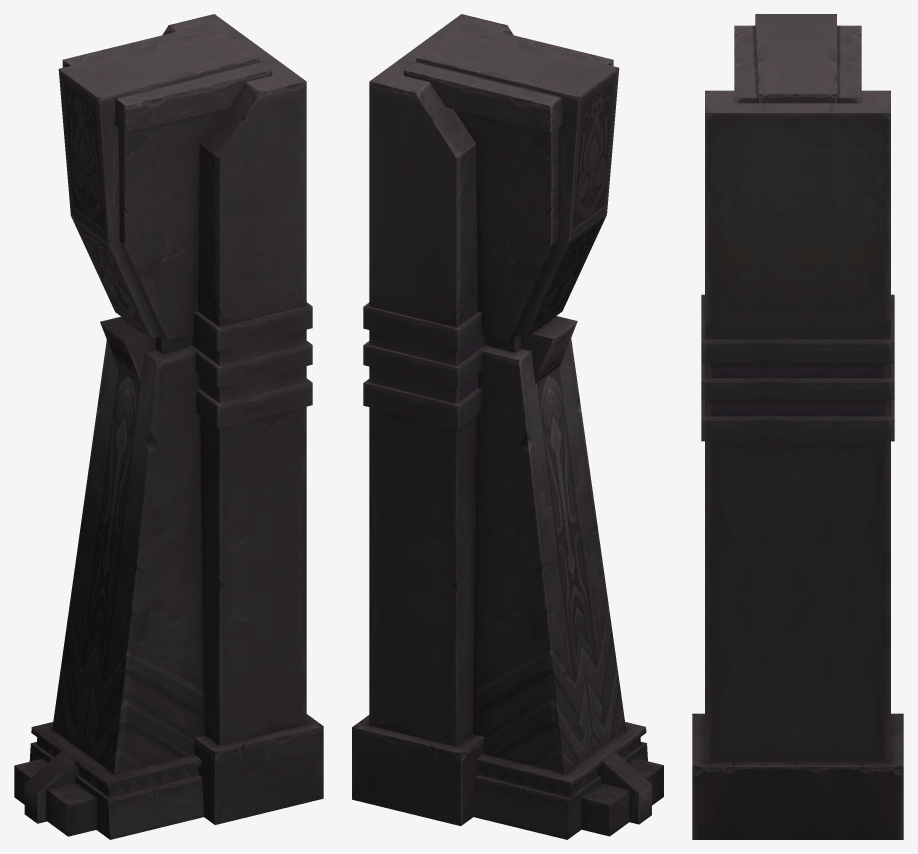
File: fb_suoyt_jz_12.FBX
3 renders of one model, left to right at view 1: azimuth 30°, elevation 25°; view 2: azimuth 150°, elevation 25°; view 3: azimuth 270°, elevation 25°, orthographic.
Parts seen in each view (by area): view 1: fb_suoyt_jz_12; view 2: fb_suoyt_jz_12; view 3: fb_suoyt_jz_12.
Boxes of the visible parts, x1,y1,x2,y2 form: fb_suoyt_jz_12: (14,14,323,839); fb_suoyt_jz_12: (352,14,663,839); fb_suoyt_jz_12: (692,14,903,839).
Size of the model in its own units: 962 by 2769 by 726.
